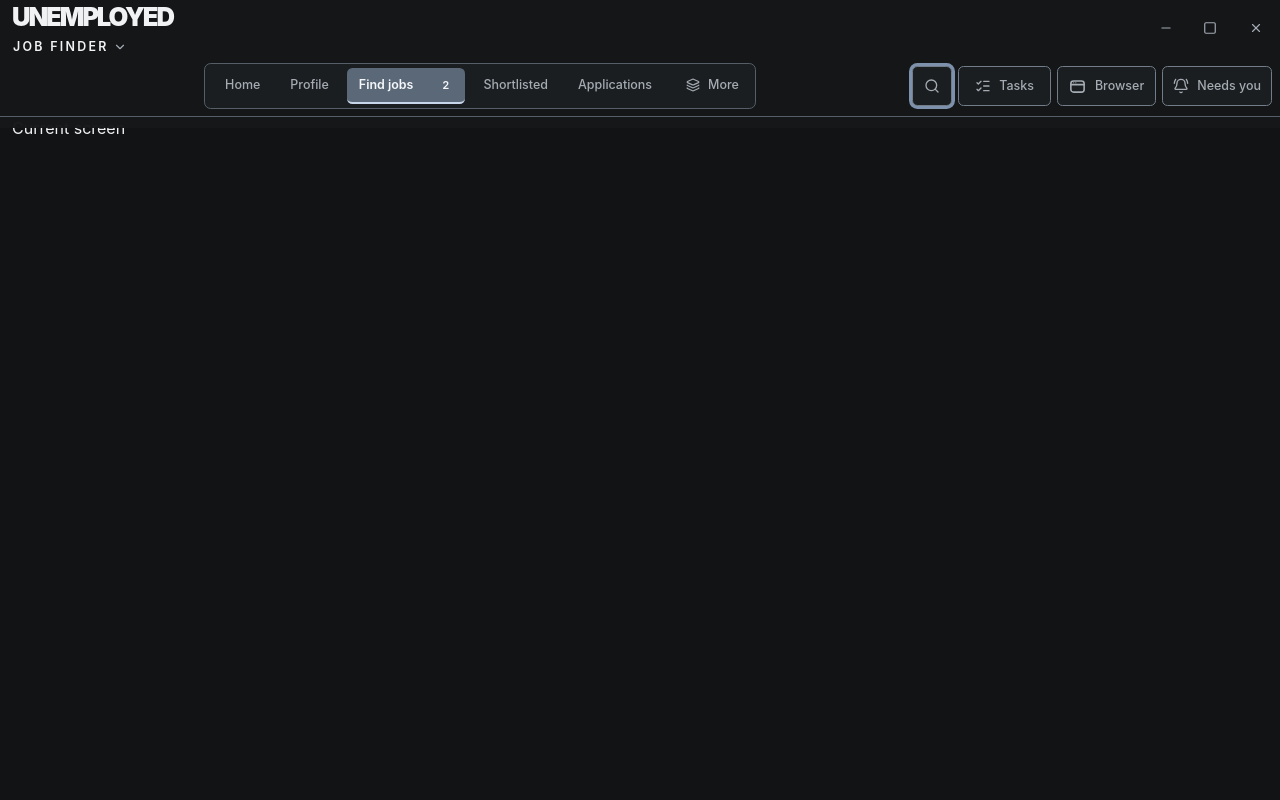
Scenario: JobFinderShell keyboard shortcuts › closes the search overlay with Escape and restores focus to its opener
The image size is (1280, 800).
Step 1. Click the button named "Search your workspace" → (932, 86), box [912, 66, 952, 106]
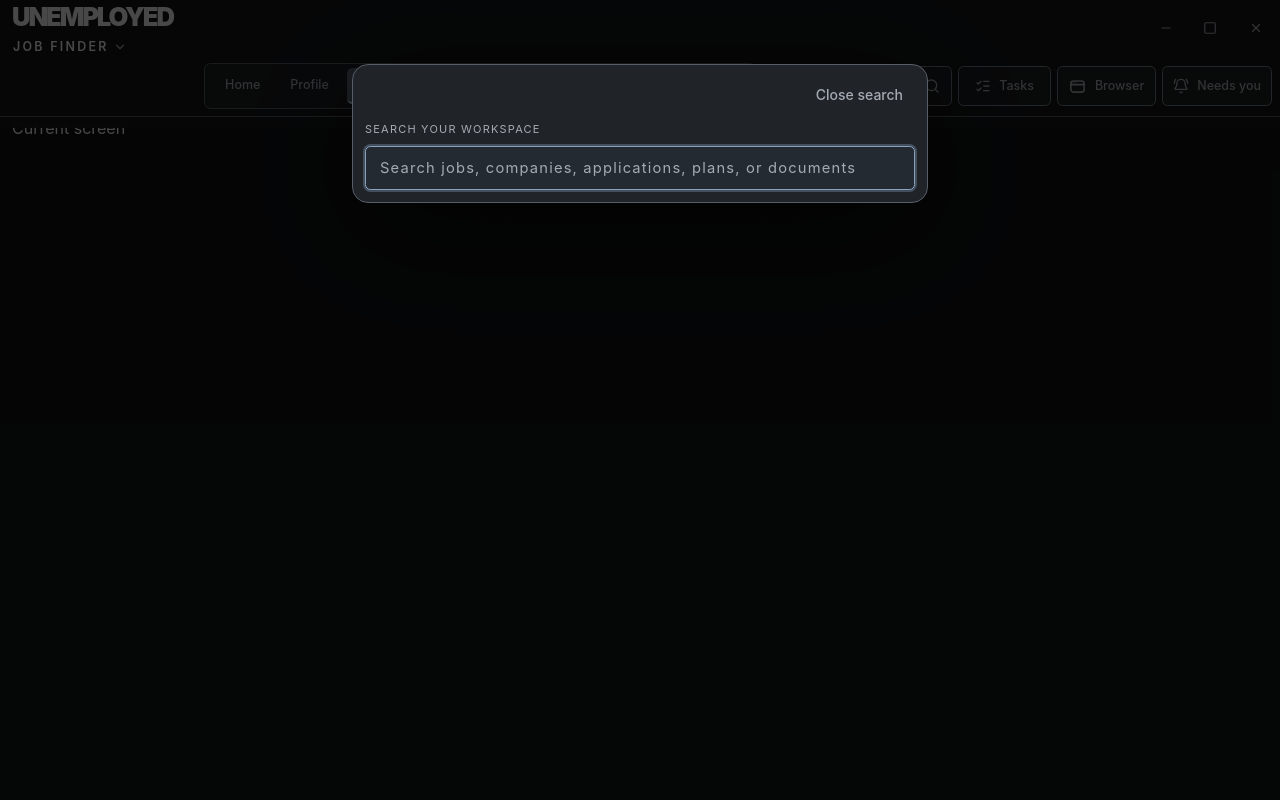
Expected: the dialog "Search your workspace" is shown, [352, 64, 928, 202]
Step 2. Press Escape in the dropdown labelled "Search your workspace", box [365, 146, 915, 190]
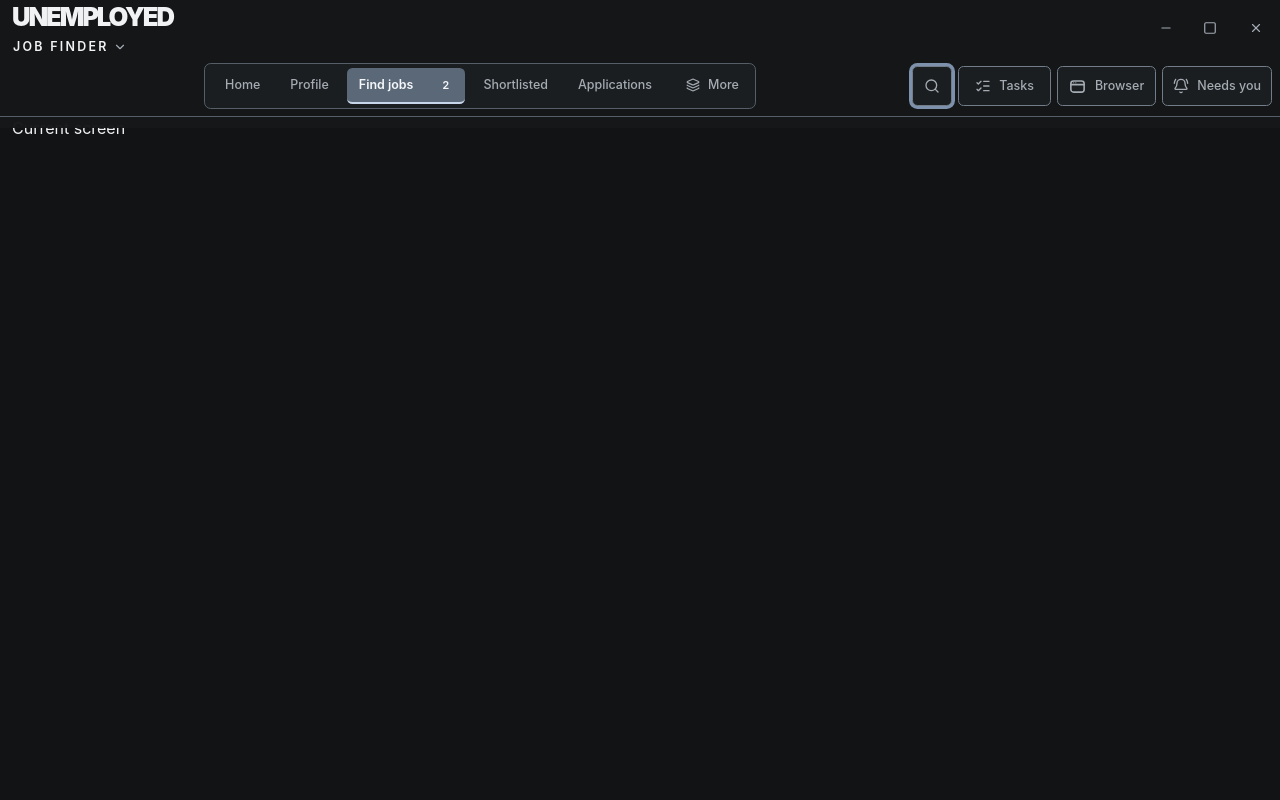
Expected: the label "Search your workspace" is gone
